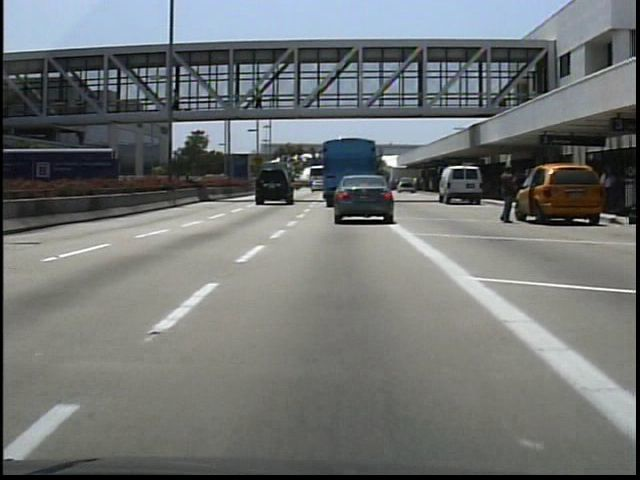person: (497, 163, 523, 226), (252, 86, 267, 117), (171, 87, 186, 115)
